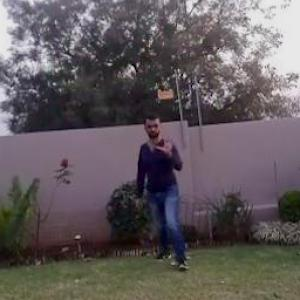follow_hand: (155, 132, 179, 160)
